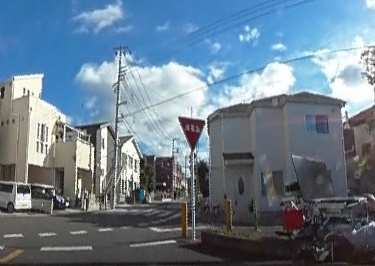person: (347, 73, 375, 253)
